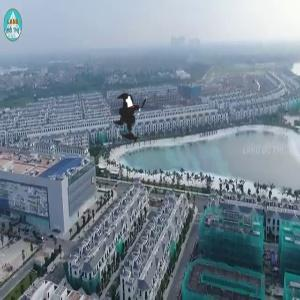drone: (95, 79, 174, 158)
